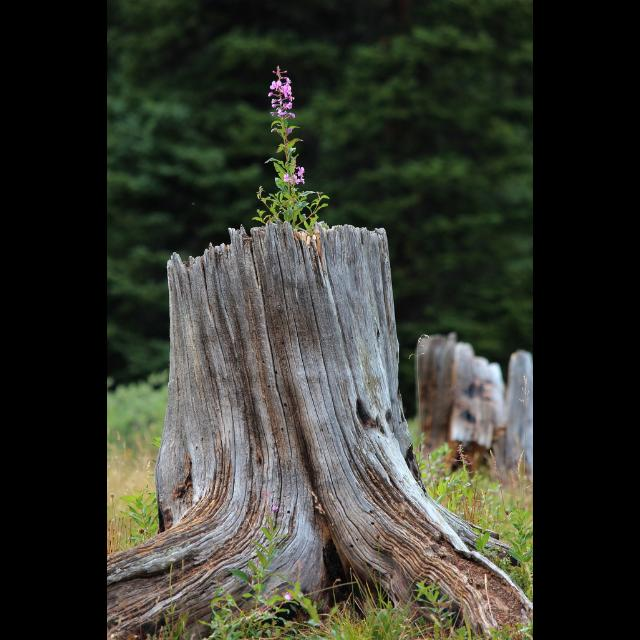Flower: (268, 66, 294, 118), (284, 159, 310, 187)
